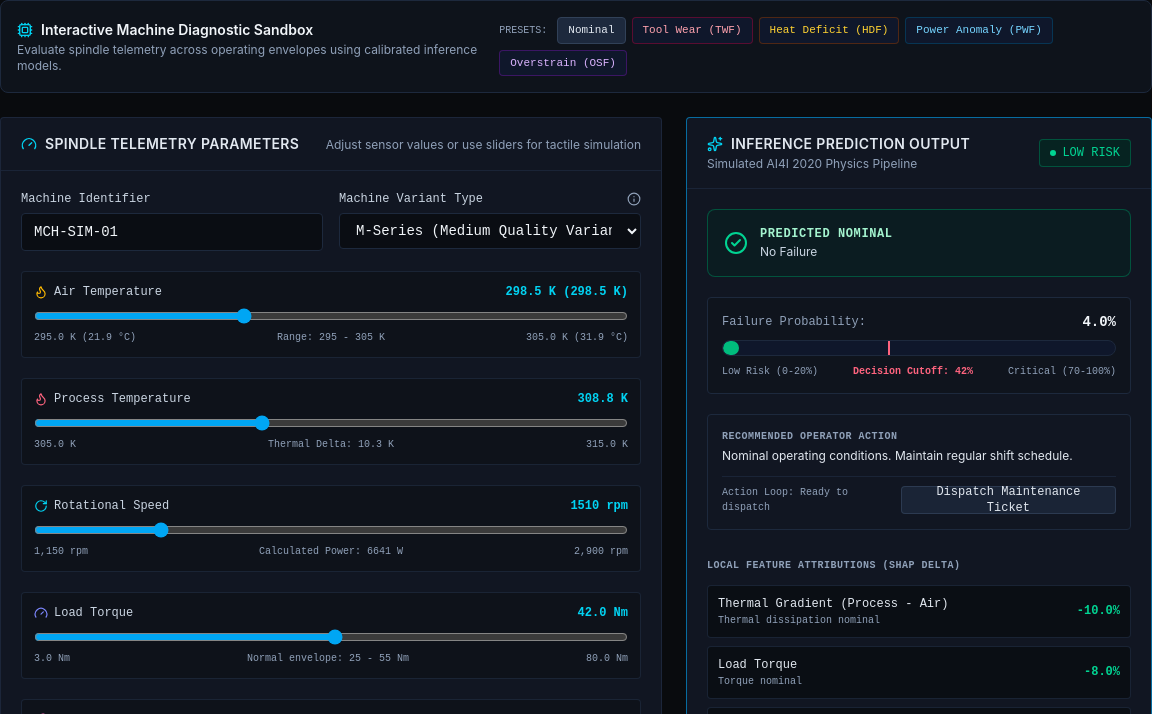
Machine Diagnostics & Prediction Sandbox Flow › renders prediction controls and scenario preset buttons
The image size is (1152, 714).
Expected: the heading "Interactive Machine Diagnostic Sandbox" is shown, [17,20,313,38]
Expected: the button "Heat Deficit (HDF)" is shown, [758,17,899,44]
// Click the Tool Wear (TWF) preset button
Click the button "Tool Wear (TWF)". click: (692, 30)
box: [632,17,752,44]
(page scrolled)
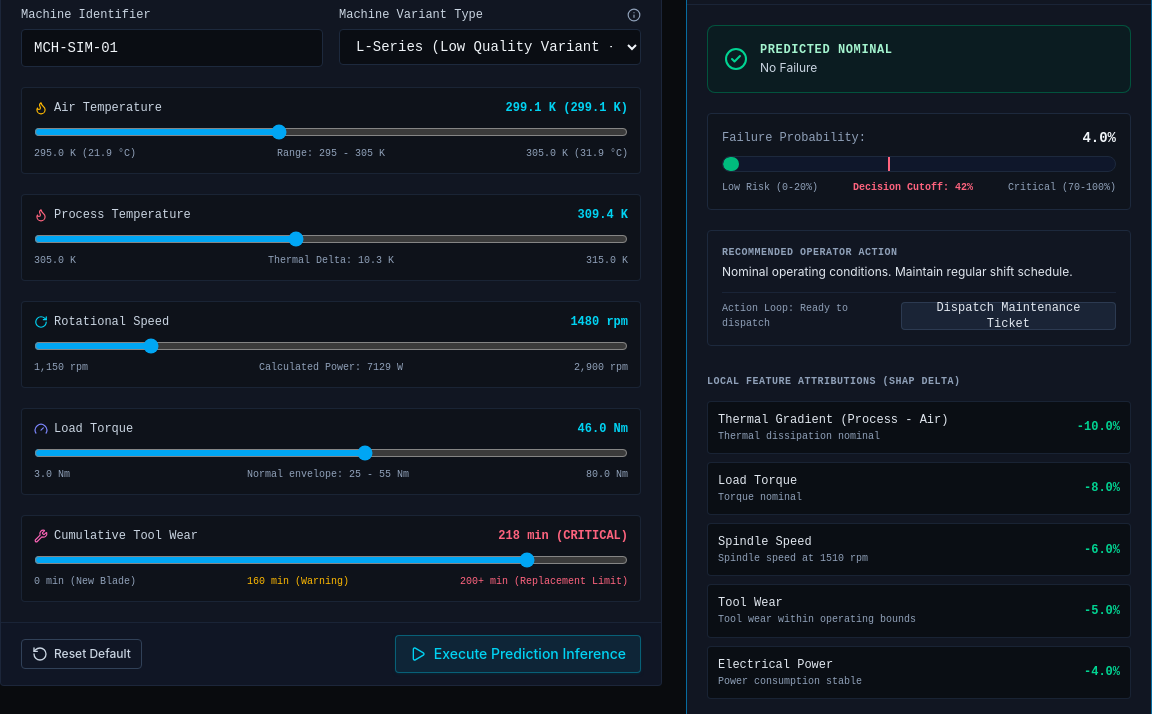
Expected: the text "218 min (CRITICAL)" is shown, [498,528,628,544]
// Click Execute Prediction Inference
Click the button "Execute Prediction Inference". click: (518, 654)
box: [395,635,641,673]
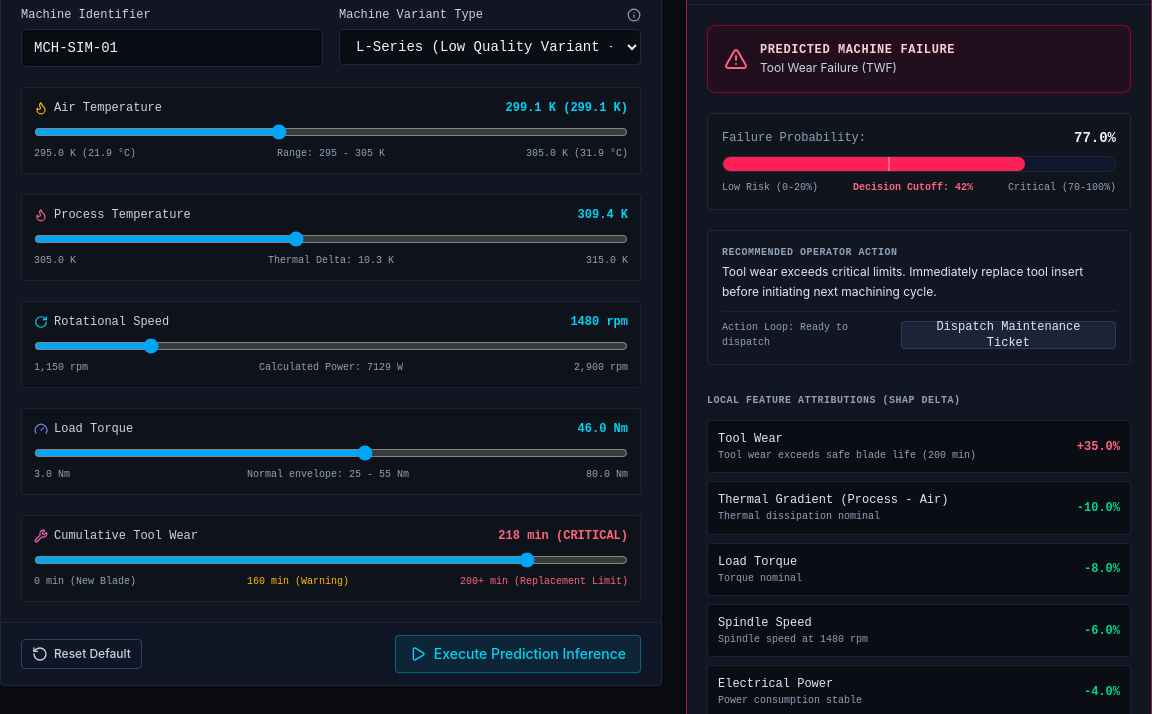
Expected: the text "PREDICTED MACHINE FAILURE" is shown, [760,42,955,58]
